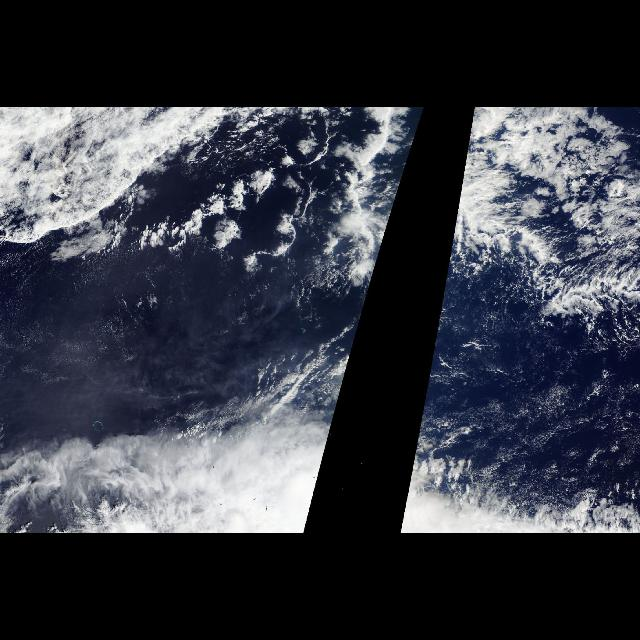Flower: (141, 136, 365, 270)
